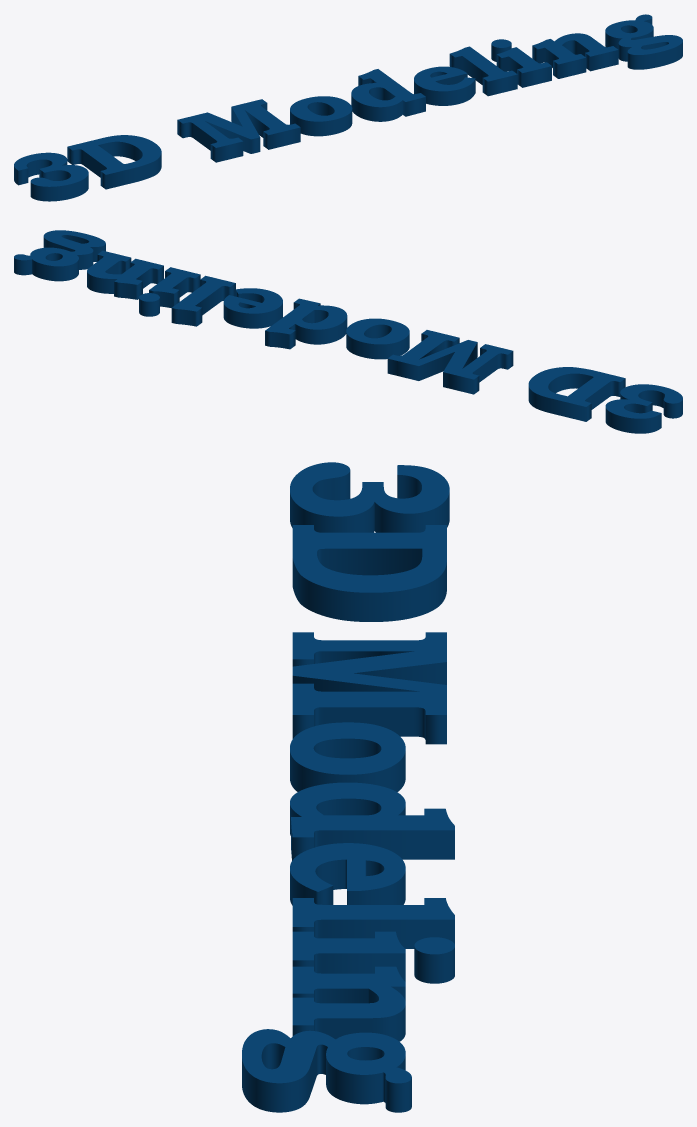
File: 3D_modeling.fbx
3 views of the same model, one above another, from view 1: azimuth 30°, elevation 25°; view 2: azimuth 150°, elevation 25°; view 3: azimuth 270°, elevation 25° (orthographic). The views are drawn at different scales.
Visible parts, largest first — view 1: Text; view 2: Text; view 3: Text.
Boxes of the visible parts, left/top/right/bottom form: Text: left=14, top=14, right=682, bottom=201; Text: left=14, top=230, right=682, bottom=433; Text: left=242, top=462, right=454, bottom=1112.
Bounding box in the file's own units: 454 × 10 × 65.88.
